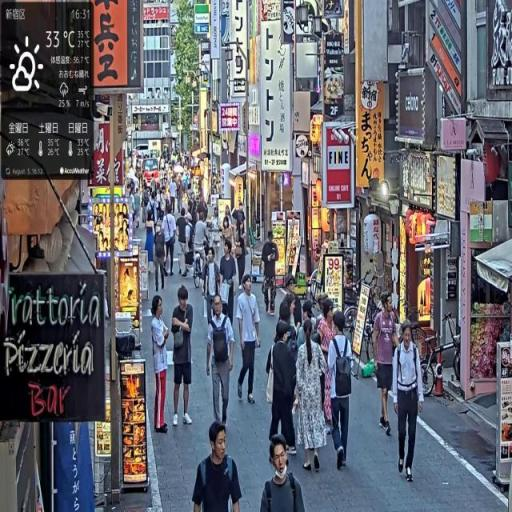person: (295, 315, 331, 474), (392, 322, 427, 485), (193, 420, 243, 512), (328, 310, 356, 473), (267, 320, 300, 457), (206, 292, 237, 435), (374, 291, 401, 440), (261, 432, 308, 511), (171, 285, 196, 431), (237, 271, 263, 409), (153, 295, 171, 435), (261, 232, 280, 319), (203, 247, 222, 330), (163, 205, 178, 276), (176, 209, 191, 279), (155, 222, 168, 294)
